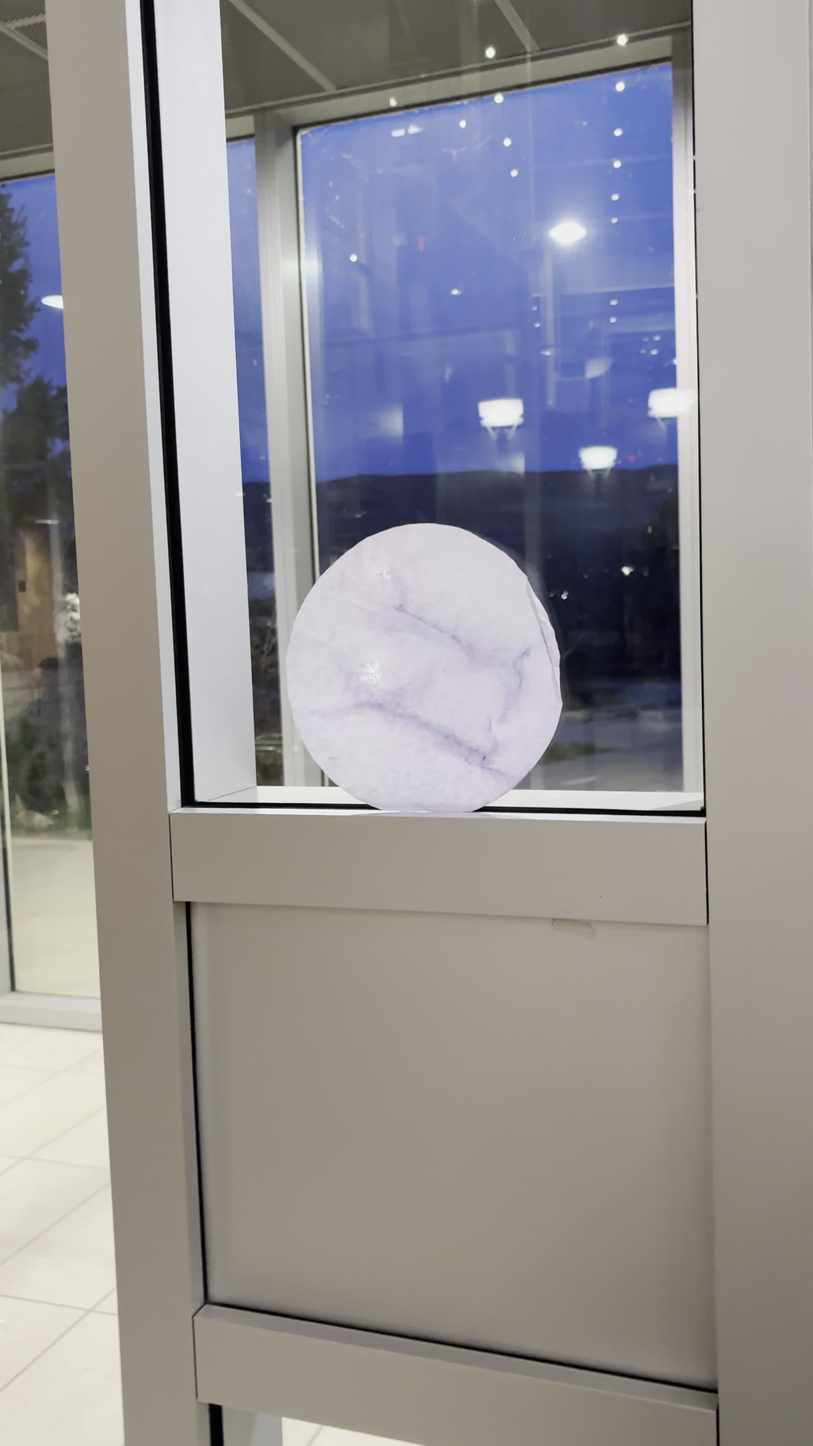Target: (285, 524, 564, 813)
